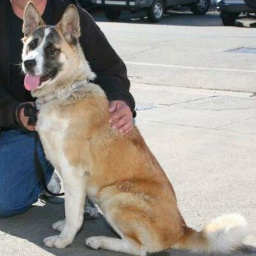dog: (17, 4, 252, 256)
